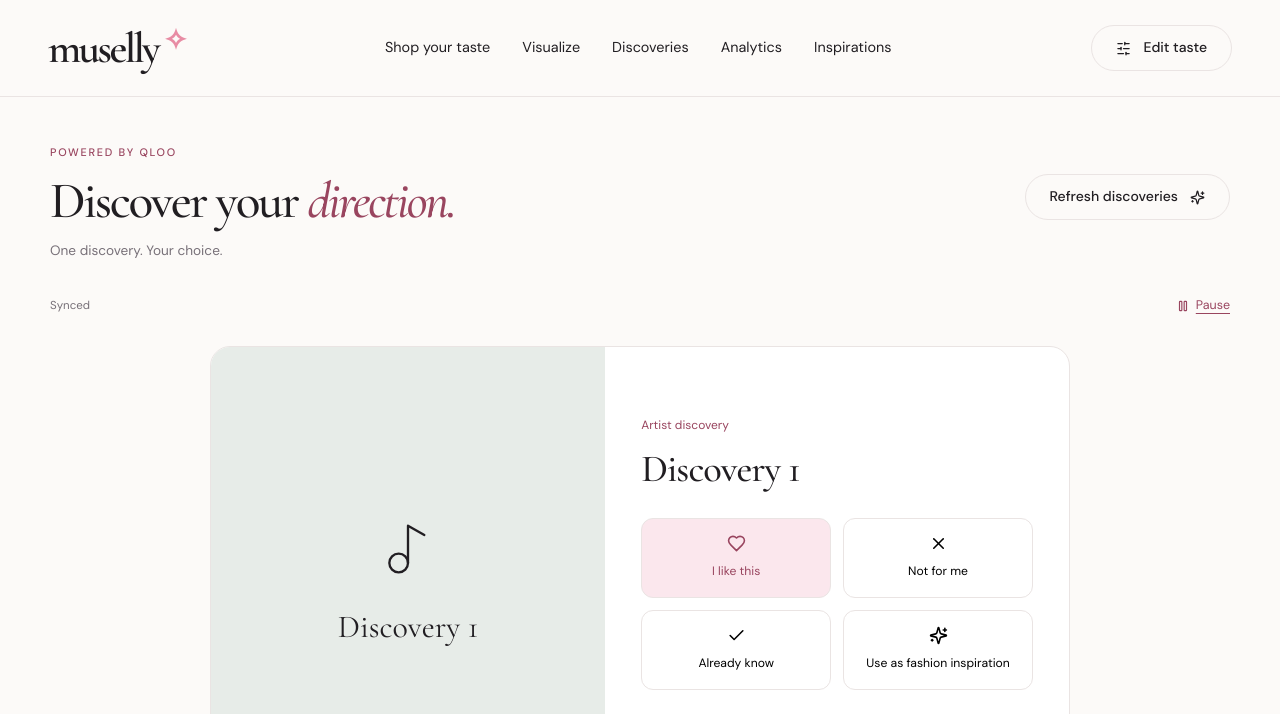
Test case: undo restores locally before any server response
This screenshot has width=1280, height=714.
Click the button "Use as fashion inspiration" at (938, 650), box [843,610,1033,690]
(page scrolled)
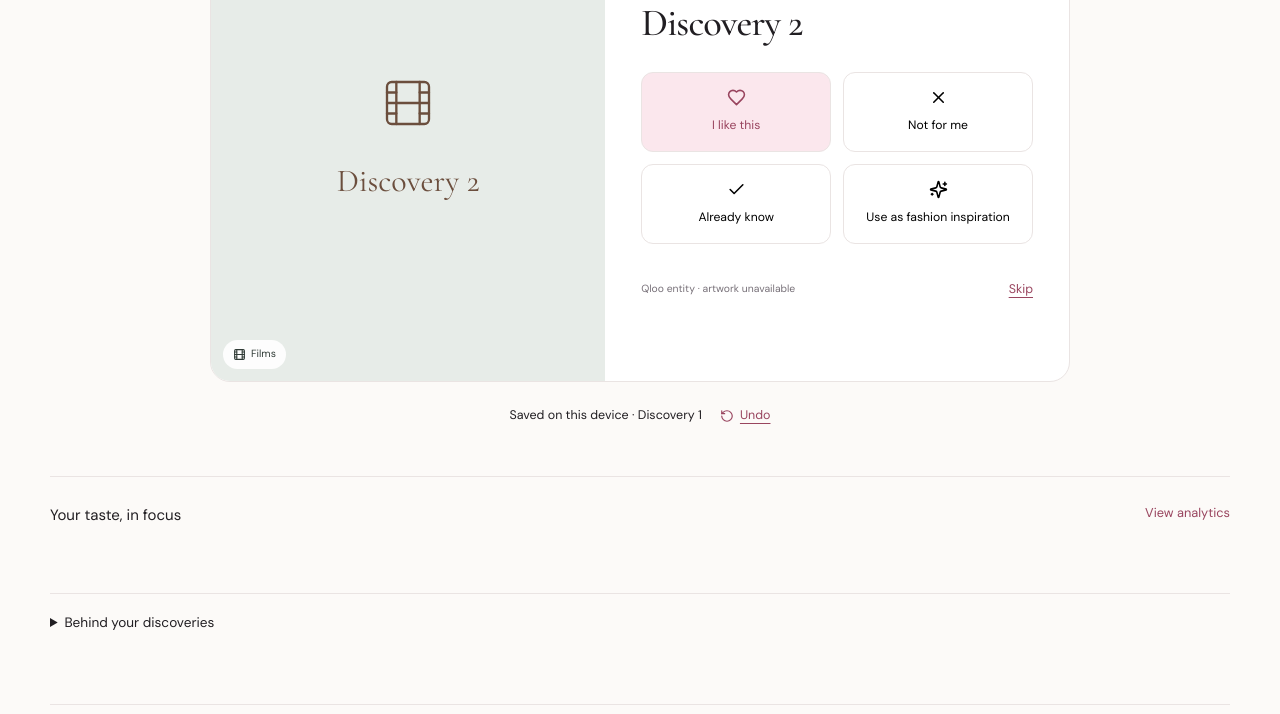
Click the button "Undo" at (745, 416), box [720,394,770,438]
(page scrolled)
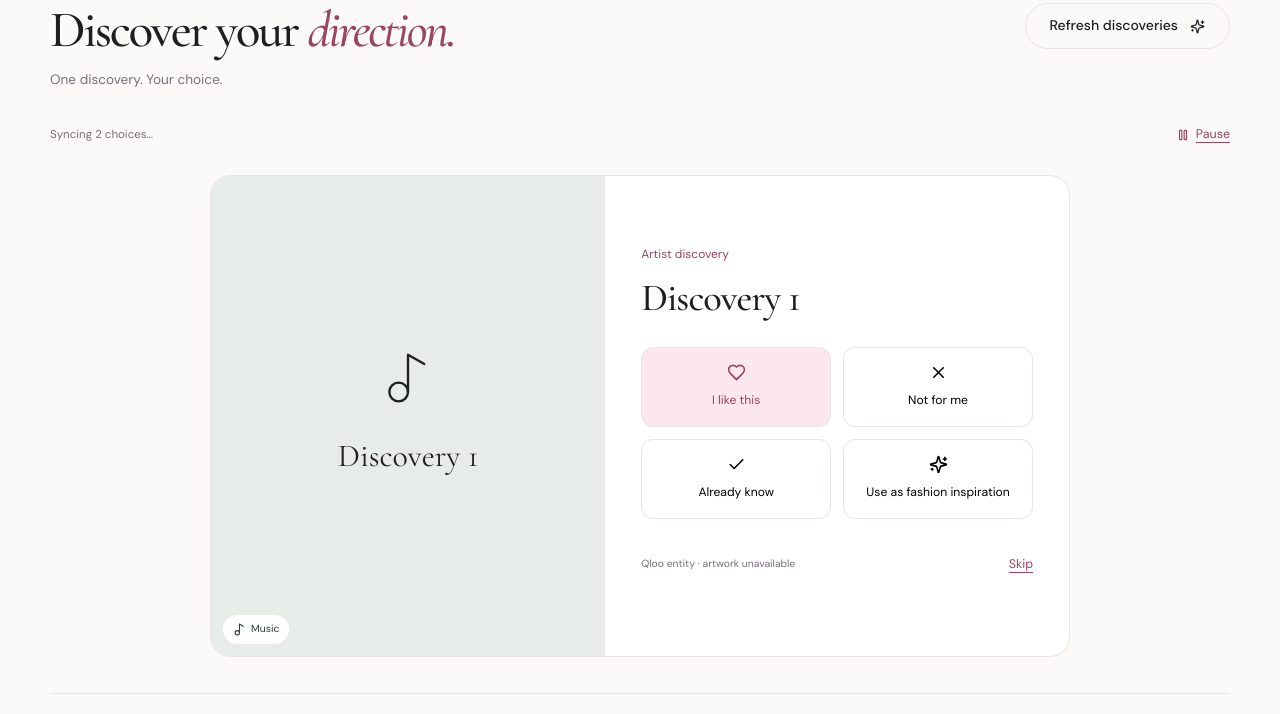
Expected: the element "Discovery 1" is shown, [210,175,1070,657]
